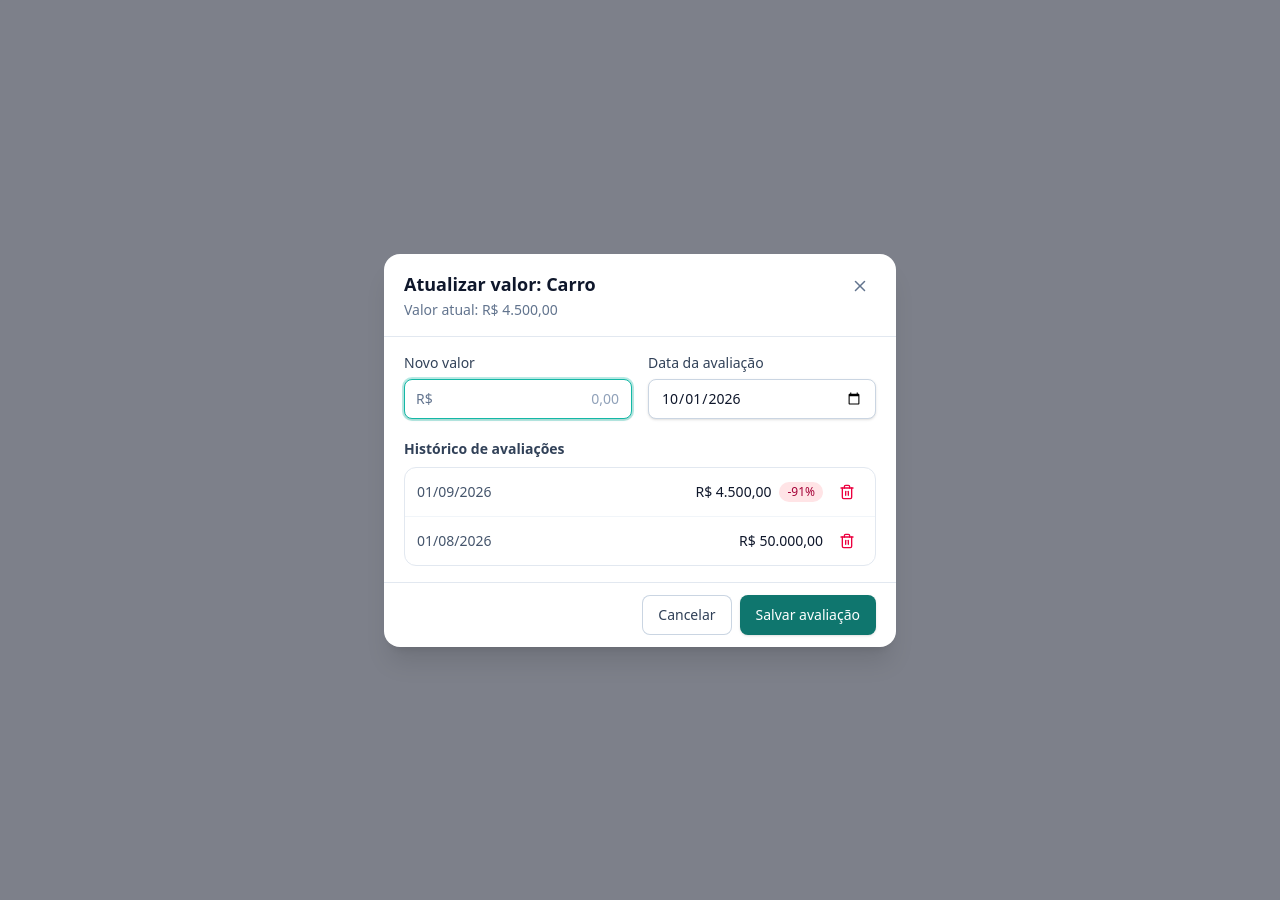
Scenario: RevalueModal › exclui uma avaliação lançada errado e o valor atual volta para a mais recente que sobrou
Click the button named "Excluir avaliação de 01/09/2026": (847, 492) [831,476,863,508]
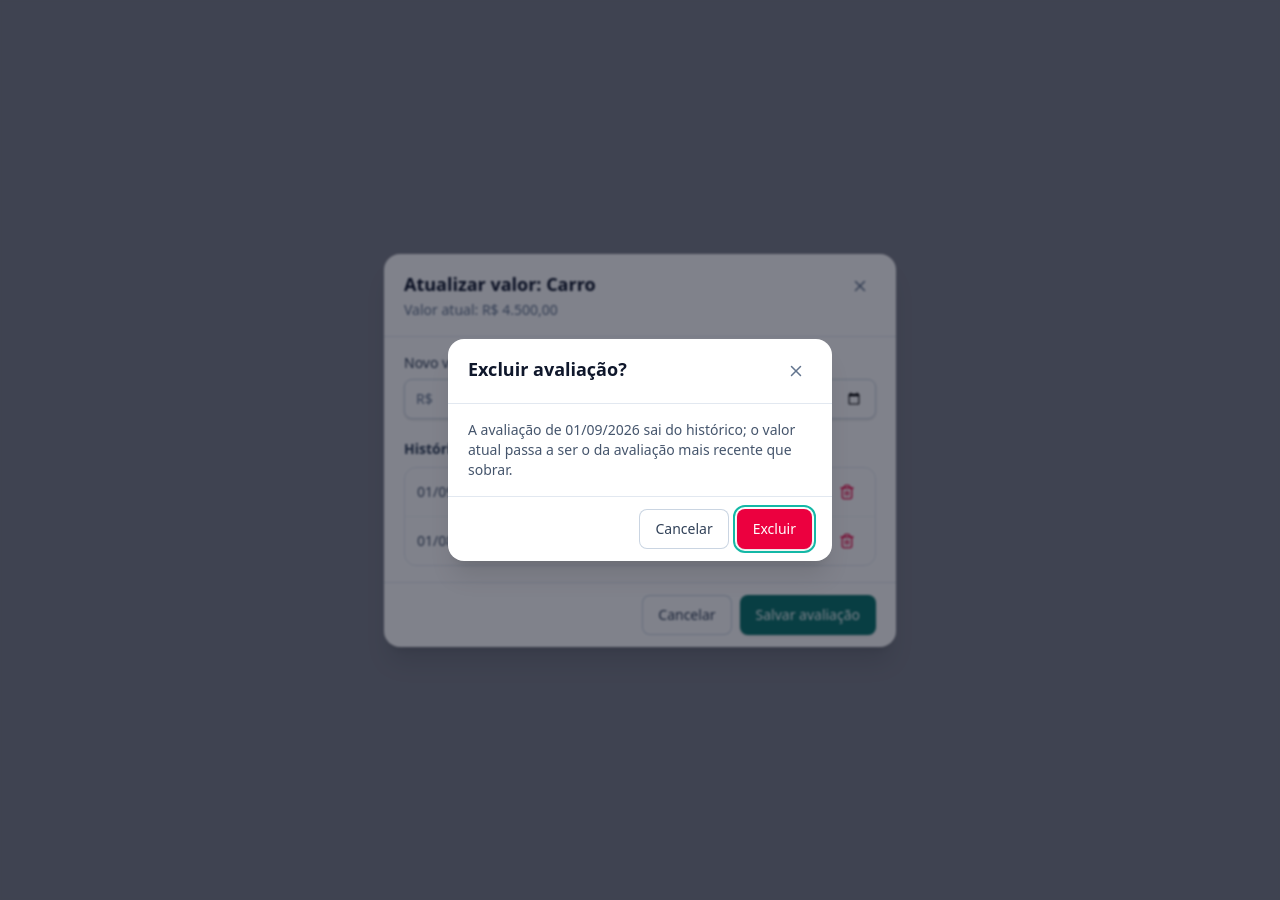
Click the button "Excluir": (774, 529) [737,509,812,549]
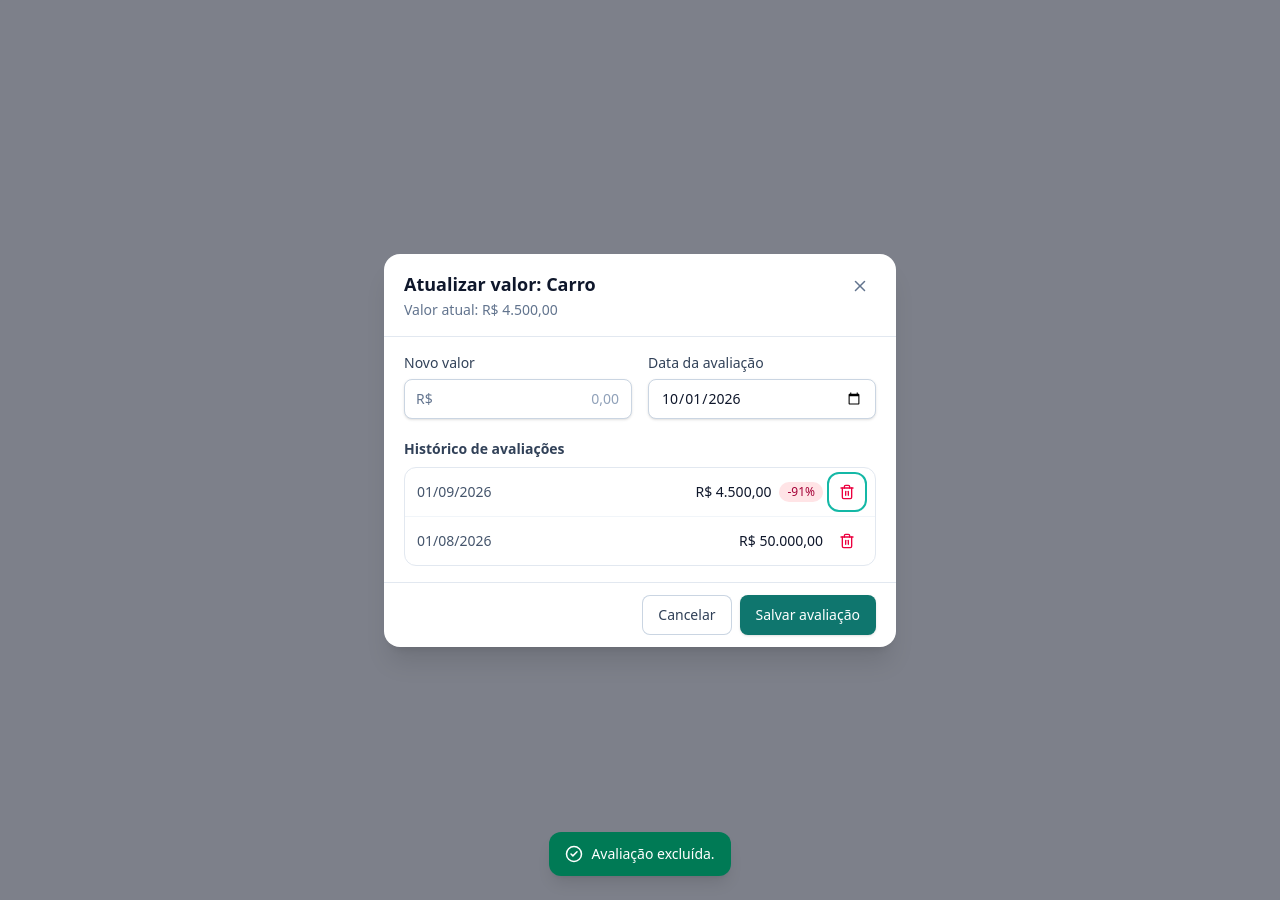
Now the text "Avaliação excluída." is shown, box [549,832,731,876]
